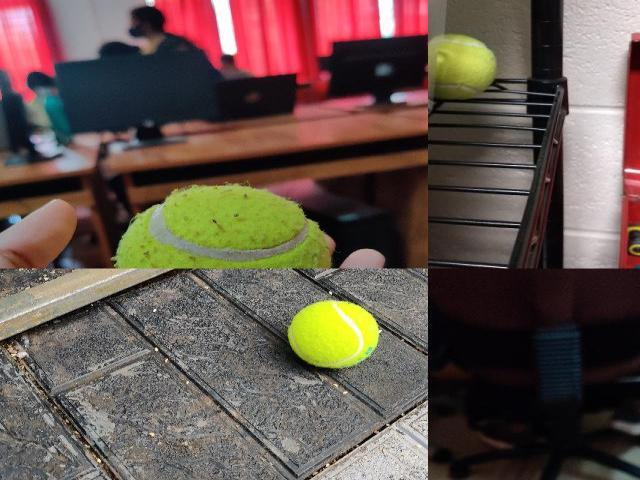tennis-ball: (115, 185, 331, 268), (286, 300, 379, 370), (429, 33, 496, 99)
